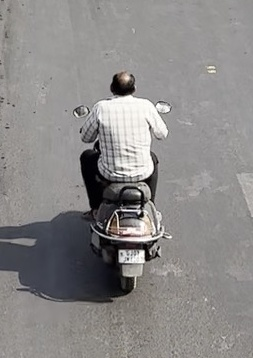BikeWithRider: (67, 66, 178, 296)
NoHelmet: (104, 66, 142, 101)
